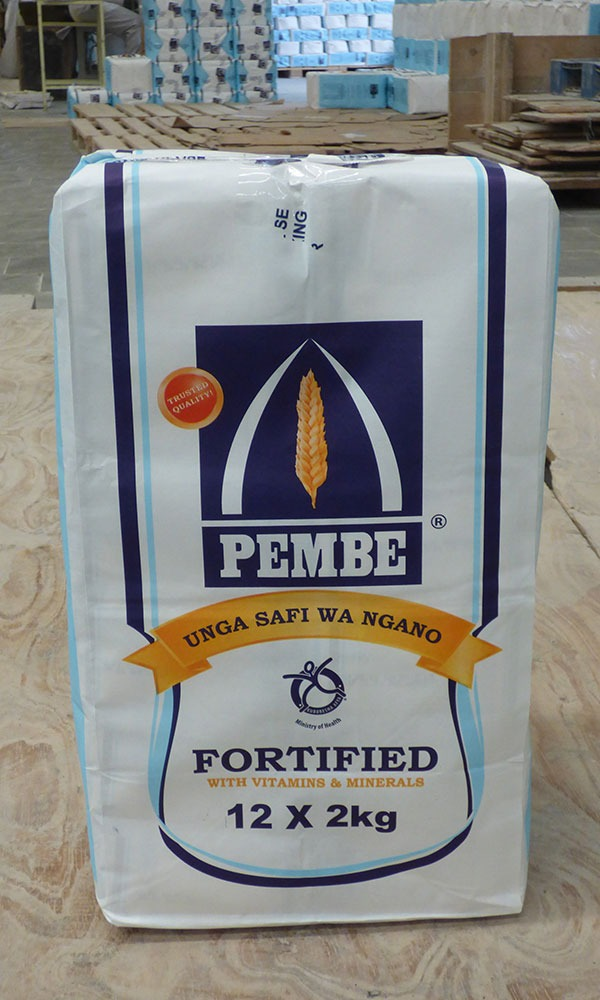wheat_flour_blue_label: (47, 159, 539, 916)
